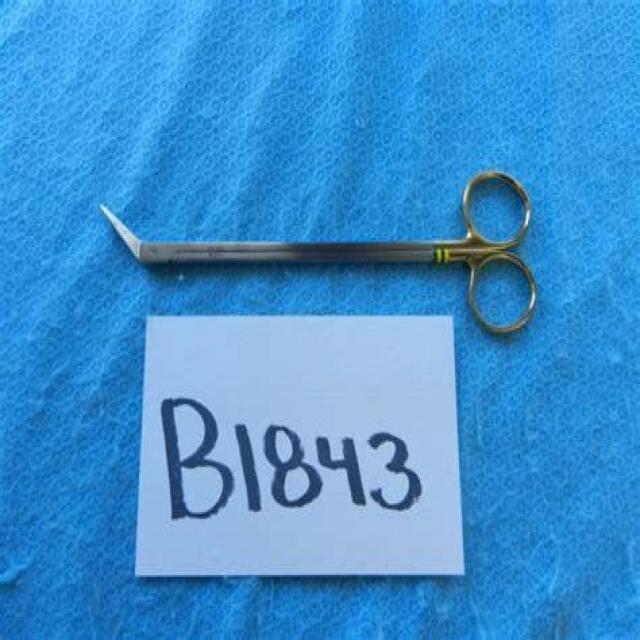Potts: (99, 161, 538, 346)
